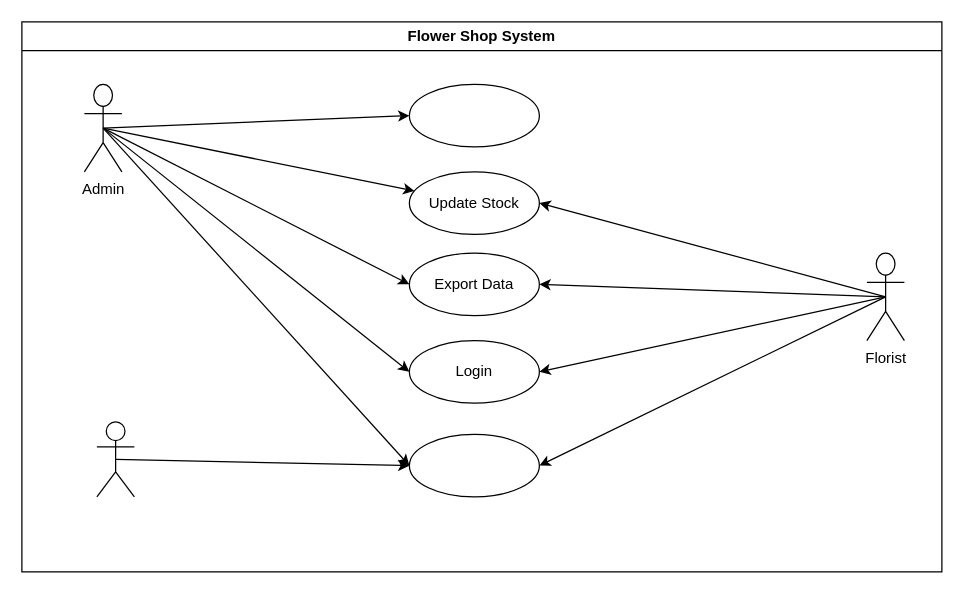
The diagram is 964 pixels wide and 594 high, and some of its shapes have lost their labels. The shapes that lost their labels are listed below. From the top down, each one's box as (x1, y1, x2, y2) in pixels, then its label:
(408, 83, 539, 147): Add/Edit/Delete Flower
(96, 421, 134, 497): Visitor
(408, 433, 539, 497): View Catalog / Filter Flowers
